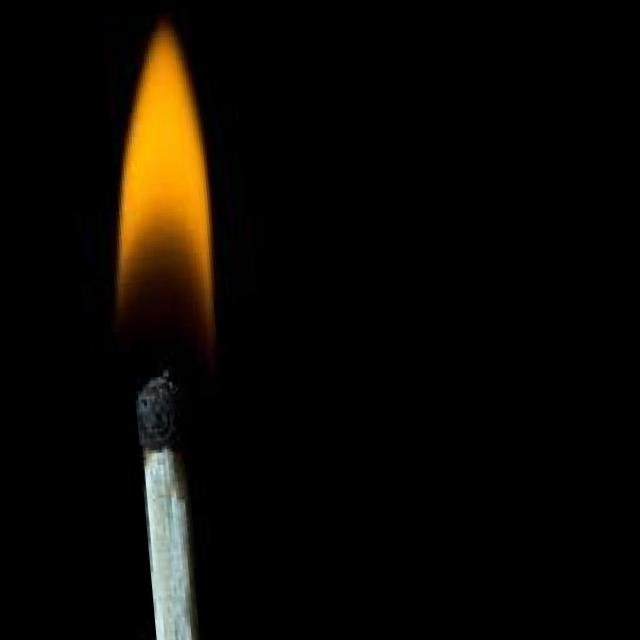Fire: (83, 16, 235, 383)
